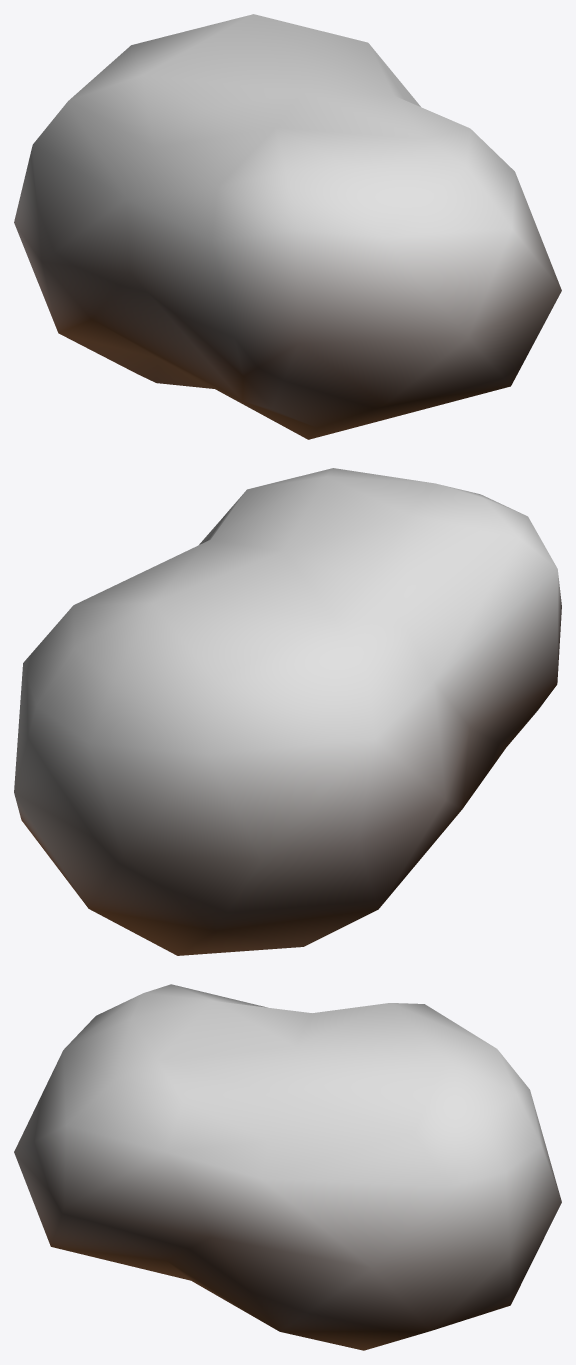
Rendered from sb_obj_indoor015_Vegetables03a.fbx.
3 renders of one model, top to bottom at view 1: azimuth 30°, elevation 25°; view 2: azimuth 150°, elevation 25°; view 3: azimuth 270°, elevation 25°, orthographic. The views are drawn at different scales.
Visible parts, largest first — view 1: sb_obj_indoor015_Vegetables03a; view 2: sb_obj_indoor015_Vegetables03a; view 3: sb_obj_indoor015_Vegetables03a.
Boxes of the visible parts, x1,y1,x2,y2 form: sb_obj_indoor015_Vegetables03a: [14, 14, 561, 439]; sb_obj_indoor015_Vegetables03a: [14, 468, 561, 955]; sb_obj_indoor015_Vegetables03a: [14, 984, 561, 1350].
Bounding box in the file's own units: 0.0988 × 0.0783 × 0.136.
